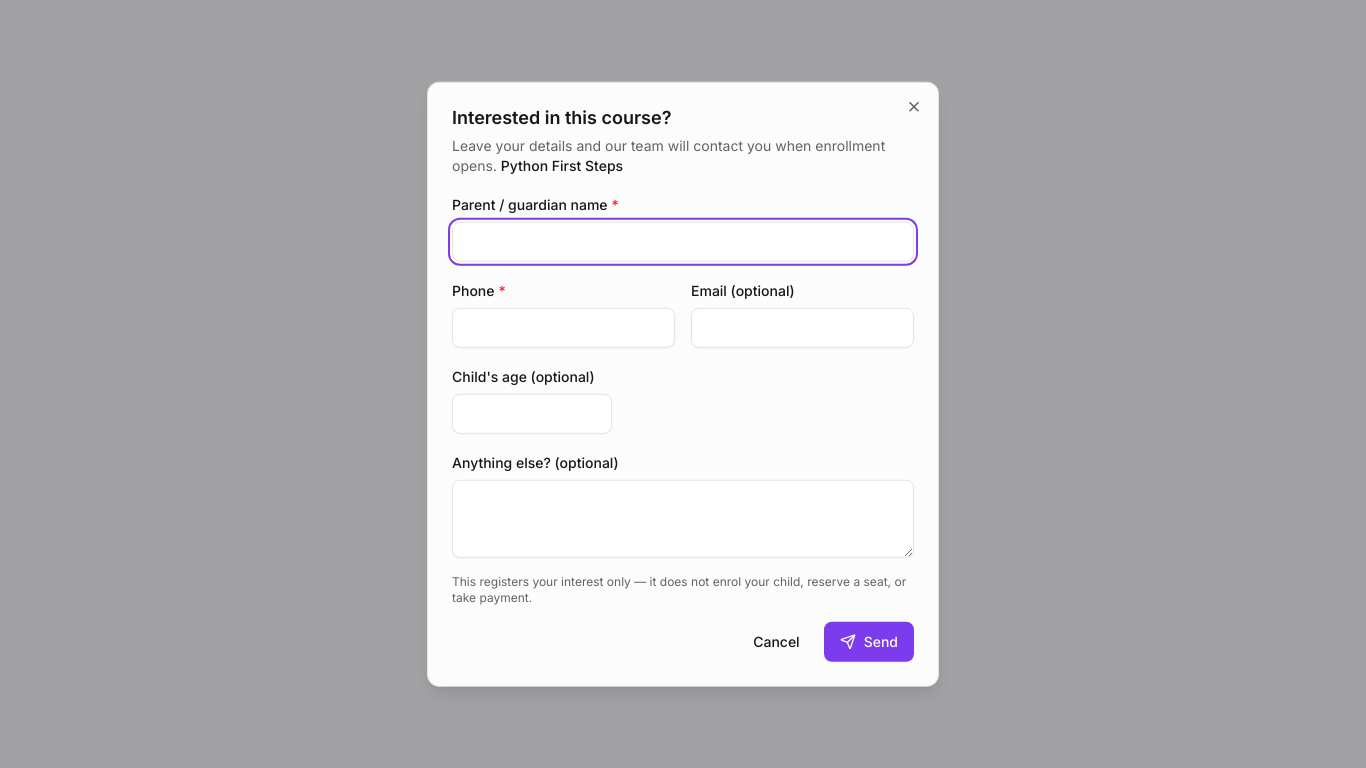
Test: InterestDialog › shows safe error copy on API failure and never leaks the raw body
In the field labelled "Parent / guardian name*": [683, 241] box [452,221,914,261], type "Sara"
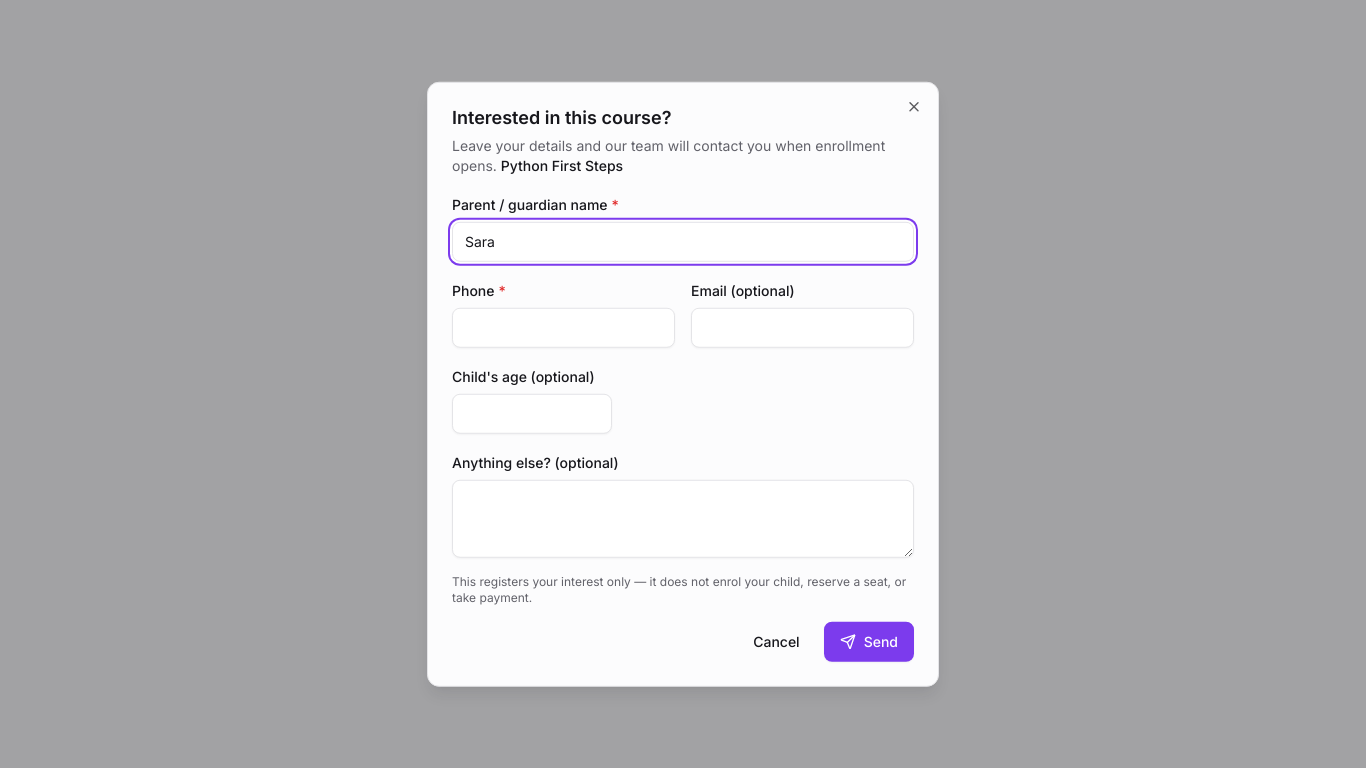
In the field labelled "Phone*": [564, 327] box [452,307,675,347], type "0100000000"
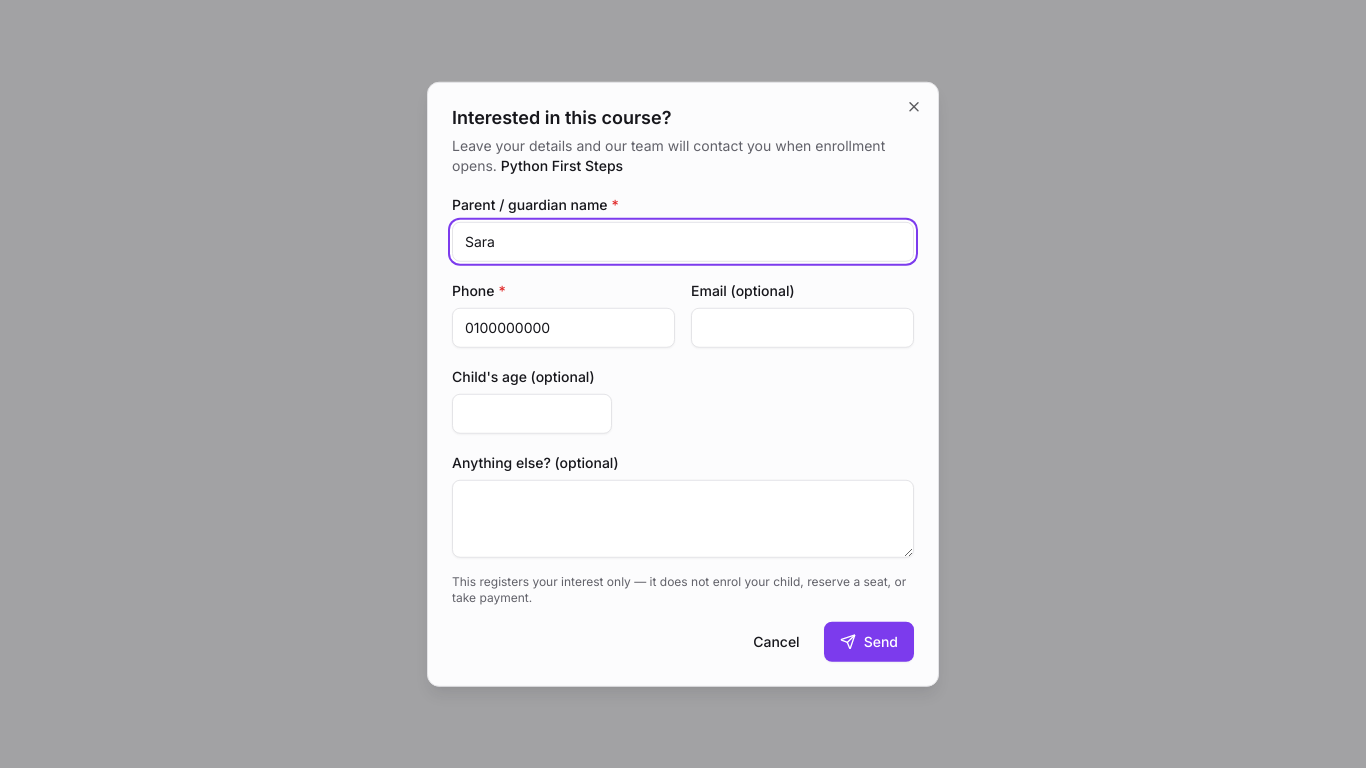
Click the button "Send": [869, 641] box [824,621,914,661]
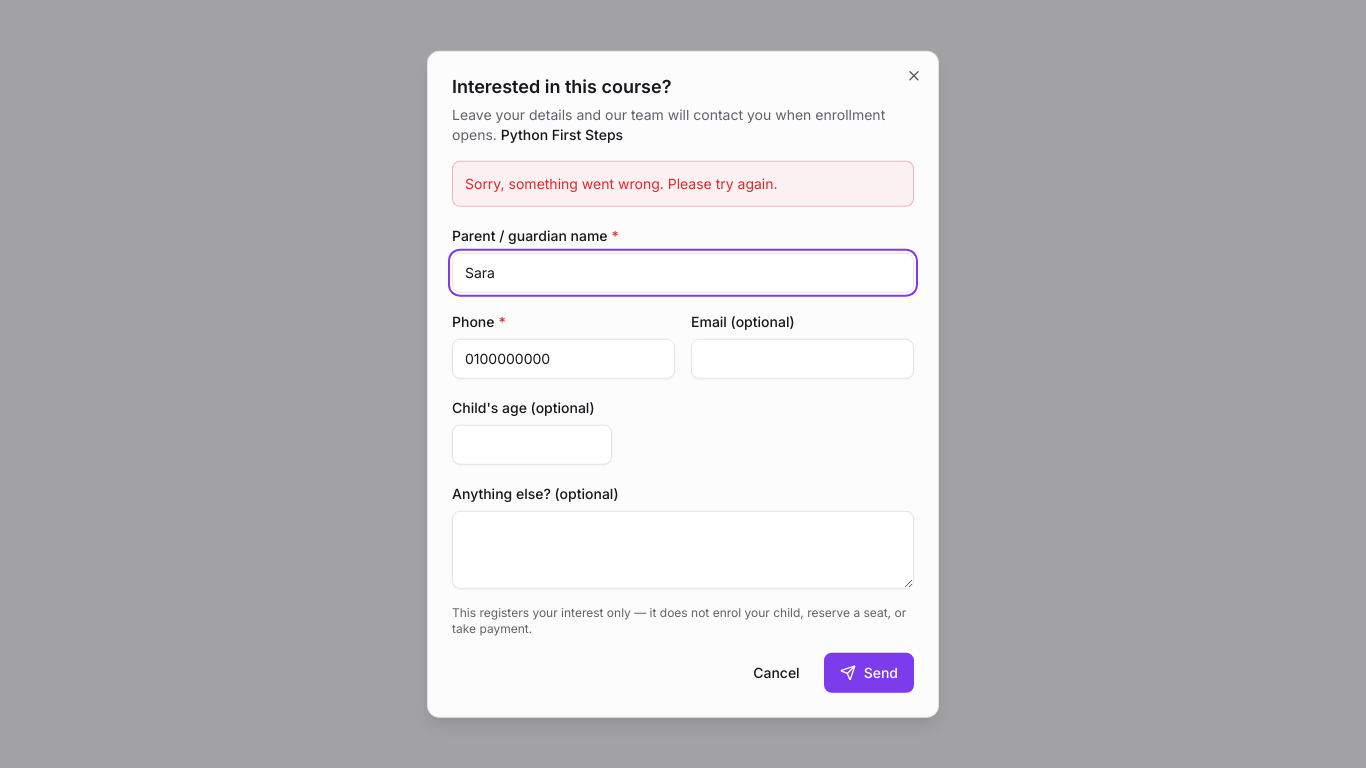
Expected: the text "Sorry, something went wrong. Please try again." is shown, [452,160,914,206]
